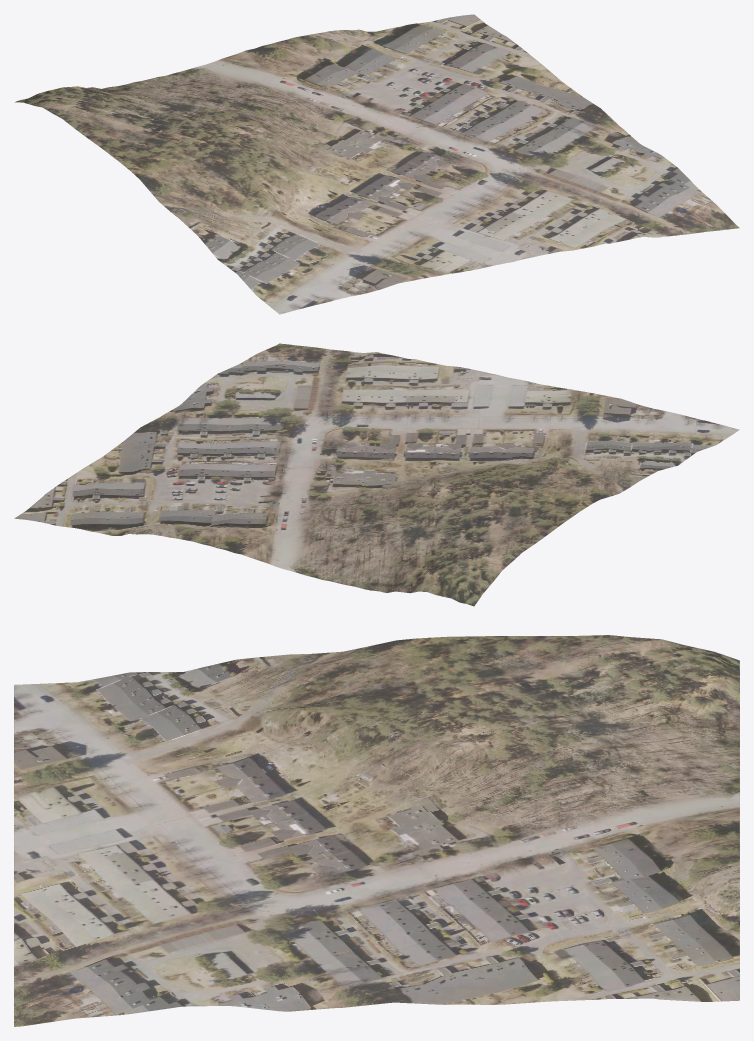
Rendered from CM_Terrain_24492506_6817336.fbx.
The picture shows the model from 3 angles, top to bottom: view 1: azimuth 30°, elevation 25°; view 2: azimuth 150°, elevation 25°; view 3: azimuth 270°, elevation 25°; orthographic projection. The views are drawn at different scales.
Parts seen in each view (by area): view 1: CM_Terrain_24492506_6817336_LOD0; view 2: CM_Terrain_24492506_6817336_LOD0; view 3: CM_Terrain_24492506_6817336_LOD0.
Part boxes in pixels (<box>): CM_Terrain_24492506_6817336_LOD0: <box>15,14,739,314</box>; CM_Terrain_24492506_6817336_LOD0: <box>14,343,739,606</box>; CM_Terrain_24492506_6817336_LOD0: <box>14,635,739,1026</box>.
Size of what is drawn, in the model's own units: 205 by 26.67 by 205.
